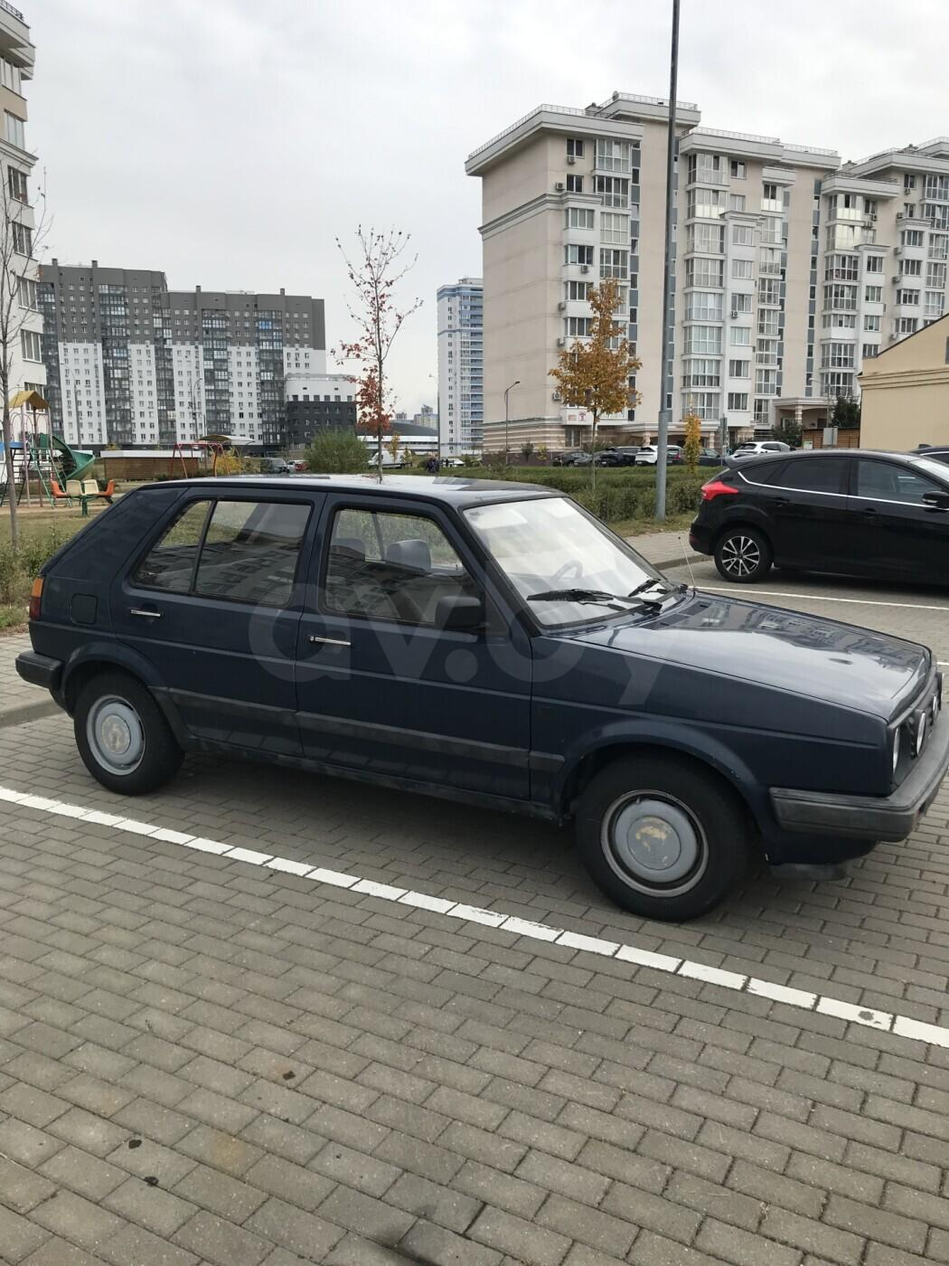Golf_1983-1992: (18, 457, 949, 915)
